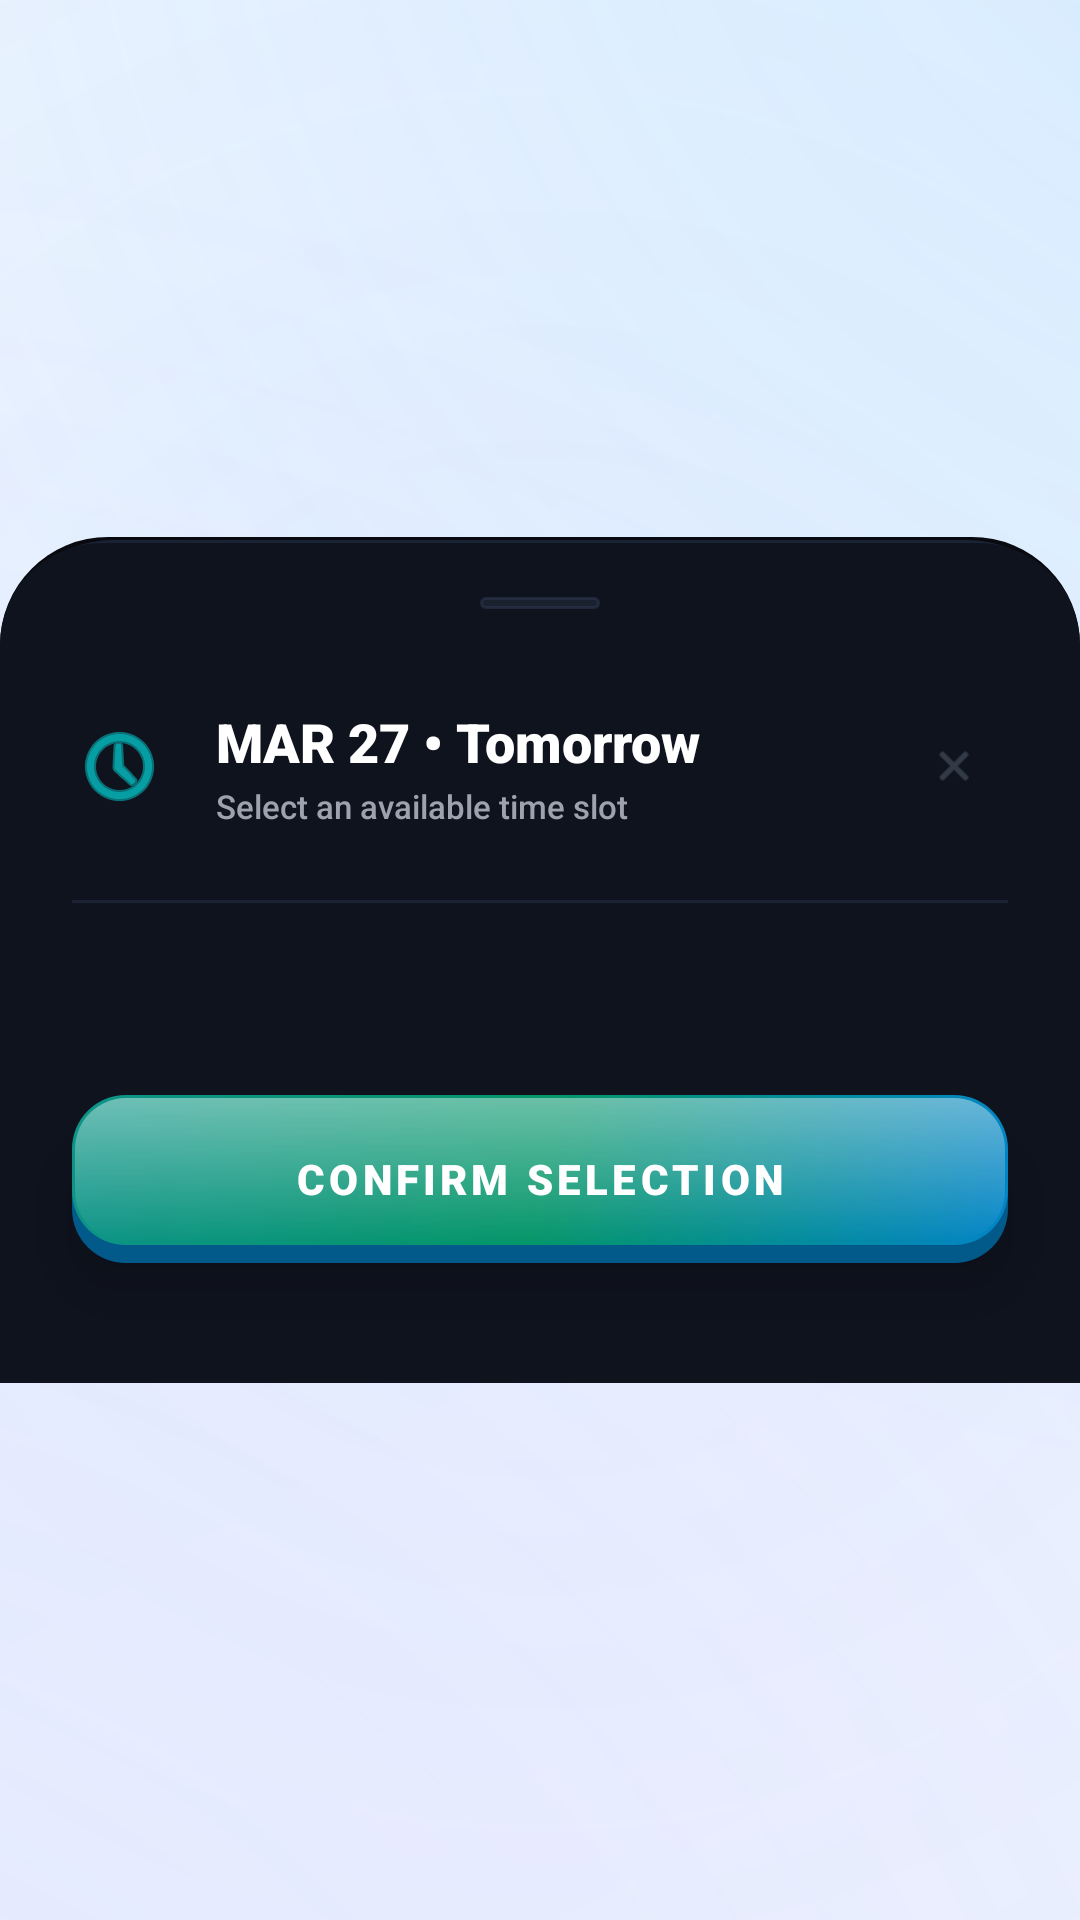

Screen size 1080w x 1920h. Icon name, then its center in pixels as [x,y]:
close clear cancel: [954,766]
recent history: [119,766]
